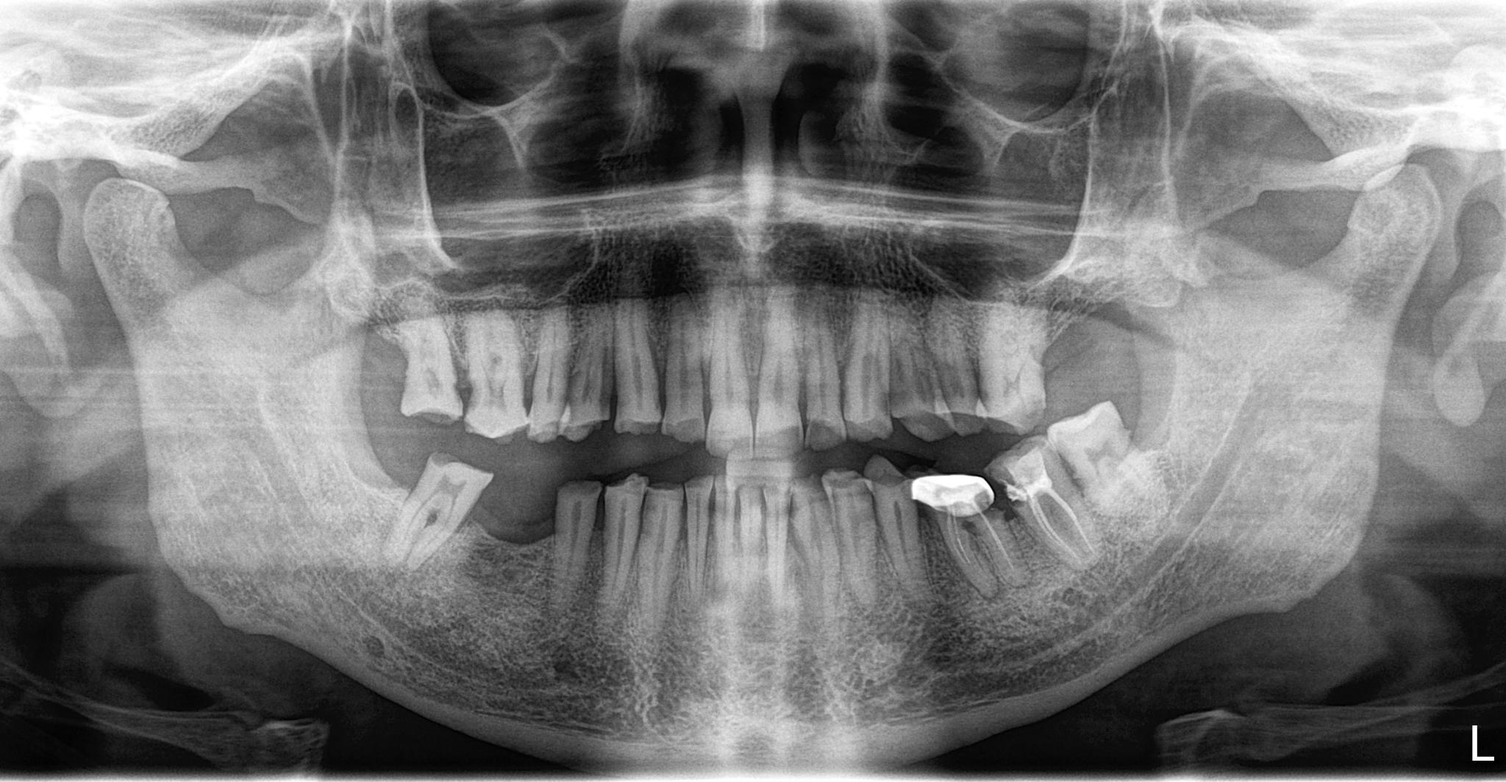Endodontically Treated Tooth: (995, 461, 1085, 577), (916, 481, 1008, 594)
Missing Tooth: (1048, 296, 1151, 403), (476, 485, 555, 595), (353, 323, 411, 433), (347, 441, 410, 510)
